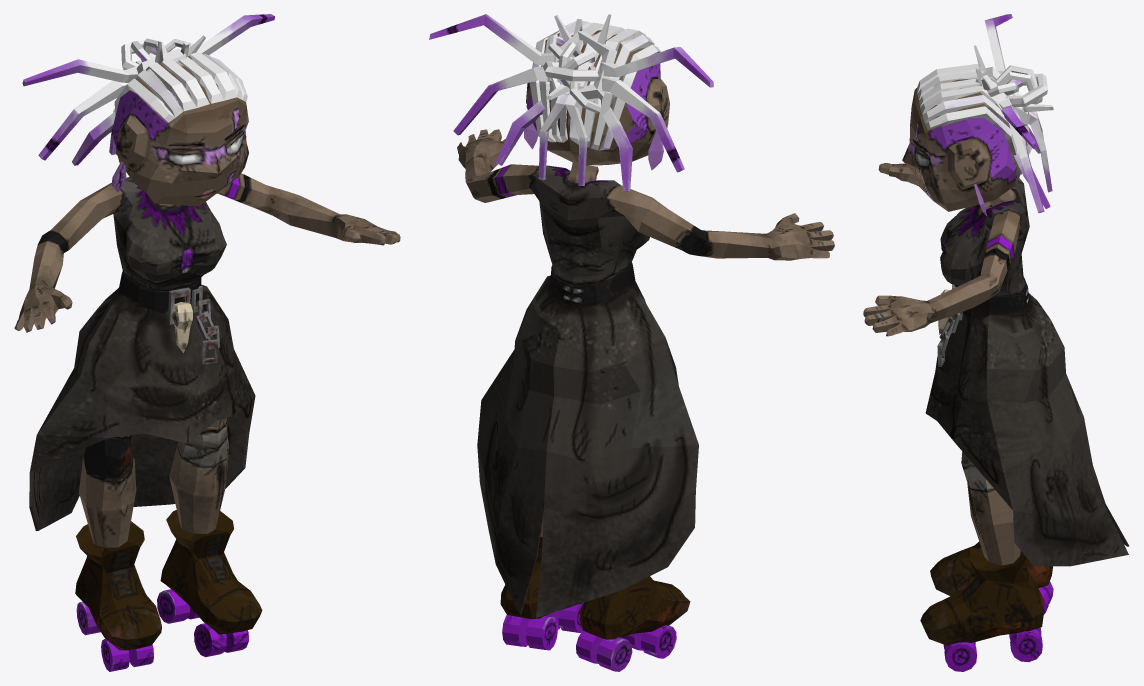
Rendered from bruja_000221.obj.
3 views of the same model, side by side, from view 1: azimuth 30°, elevation 25°; view 2: azimuth 150°, elevation 25°; view 3: azimuth 270°, elevation 25° (orthographic). The views are drawn at different scales.
Visible parts, largest first — view 1: Bruja_Plane.001; view 2: Bruja_Plane.001; view 3: Bruja_Plane.001.
Part boxes in pixels (x1,y1,x2,y2): Bruja_Plane.001: (14,14,400,671); Bruja_Plane.001: (429,14,834,671); Bruja_Plane.001: (863,14,1128,671).
Size of the model in its own units: 10.51 by 16.7 by 6.8.
